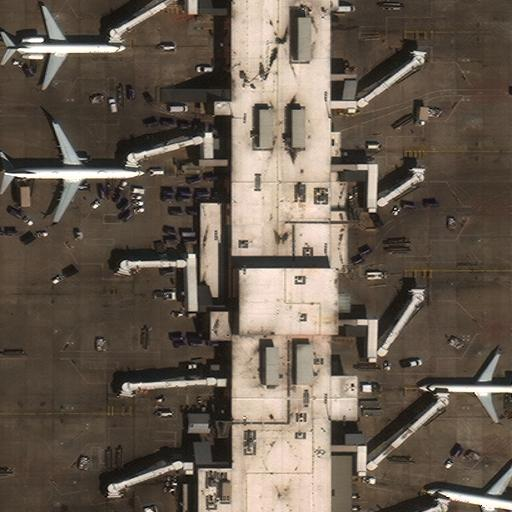Medium Civil Transport: (4, 121, 145, 222), (5, 6, 126, 89), (419, 351, 512, 423), (426, 463, 512, 512)
